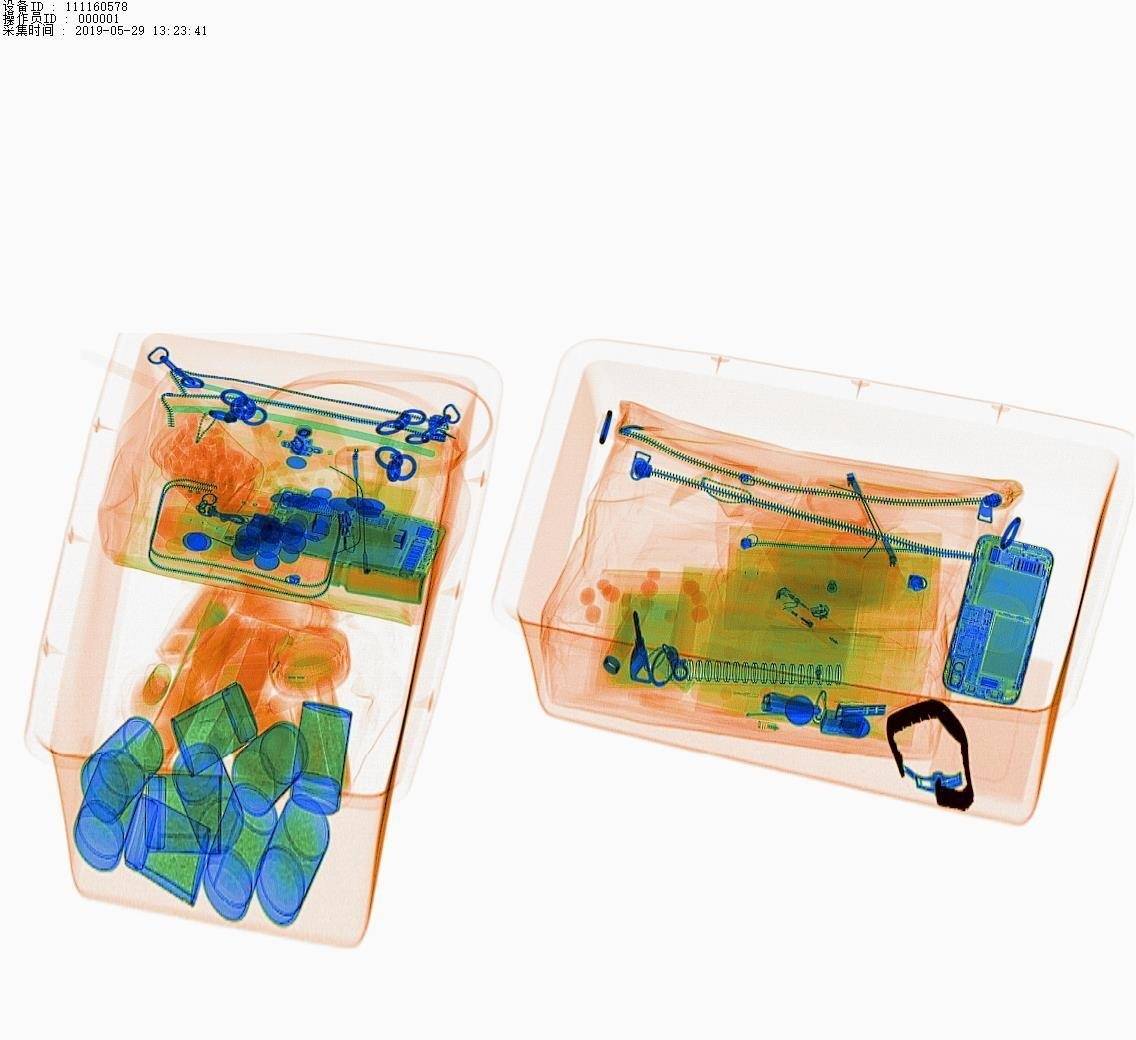NonmetallicFire: (766, 561, 872, 679)
